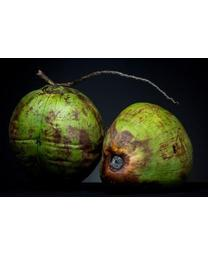coconut: (13, 81, 104, 193), (104, 100, 195, 197)
